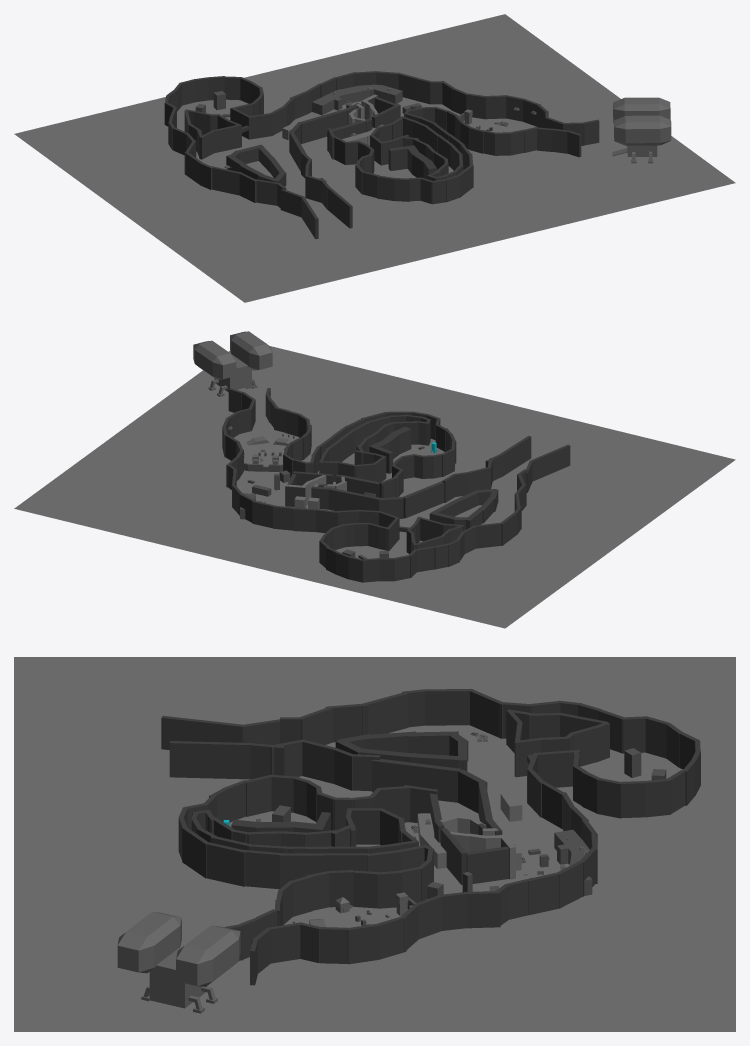
The model's file is BlockoutLevel0.fbx.
The picture shows the model from 3 angles, top to bottom: view 1: azimuth 30°, elevation 25°; view 2: azimuth 150°, elevation 25°; view 3: azimuth 270°, elevation 25°; orthographic projection. The views are drawn at different scales.
Parts seen in each view (by area): view 1: Plane, Spaceship, Cube.139, Cube, Cube.092, Cube.087, Cube.070, Cube.094, Cube.055, Cube.096, Cube.115; view 2: Plane, Spaceship, Cube.141, Cube.139, Cube.097, Cube, Cube.089, Cube.066, Cube.140, Cube.003, Cube.065, Cube.064; view 3: Plane, Spaceship, Cube, Cube.141, Cube.097, Cube.090, Cube.092, Cube.189, Cube.147, Cube.191, Cube.061, Cube.089 (+52 smaller).
Part boxes in pixels (x1,y1,x2,y2): Plane: [14, 14, 735, 302]; Spaceship: [612, 97, 671, 163]; Cube.139: [300, 109, 349, 143]; Cube: [326, 186, 352, 228]; Cube.092: [211, 166, 241, 195]; Cube.087: [213, 124, 241, 152]; Cube.070: [248, 113, 272, 139]; Cube.094: [255, 179, 278, 205]; Cube.055: [486, 95, 507, 119]; Cube.096: [280, 189, 304, 217]; Cube.115: [388, 145, 412, 170]; Plane: [14, 346, 735, 628]; Spaceship: [193, 331, 272, 397]; Cube.141: [403, 481, 444, 518]; Cube.139: [328, 488, 381, 510]; Cube.097: [531, 444, 570, 481]; Cube: [500, 435, 531, 476]; Cube.089: [473, 522, 503, 548]; Cube.066: [293, 508, 316, 531]; Cube.140: [344, 475, 384, 497]; Cube.003: [467, 467, 490, 493]; Cube.065: [273, 505, 296, 530]; Cube.064: [252, 501, 274, 528]; Plane: [14, 657, 735, 1031]; Spaceship: [117, 912, 240, 1013]; Cube: [169, 741, 251, 779]; Cube.141: [372, 759, 461, 802]; Cube.097: [161, 715, 243, 749]; Cube.090: [424, 689, 473, 725]; Cube.092: [360, 692, 408, 735]; Cube.189: [205, 842, 246, 886]; Cube.147: [466, 846, 508, 883]; Cube.191: [240, 849, 282, 889]; Cube.061: [526, 872, 561, 915]; Cube.089: [468, 688, 504, 738].
Size of the model in its own units: 1346 by 125 by 1096.
